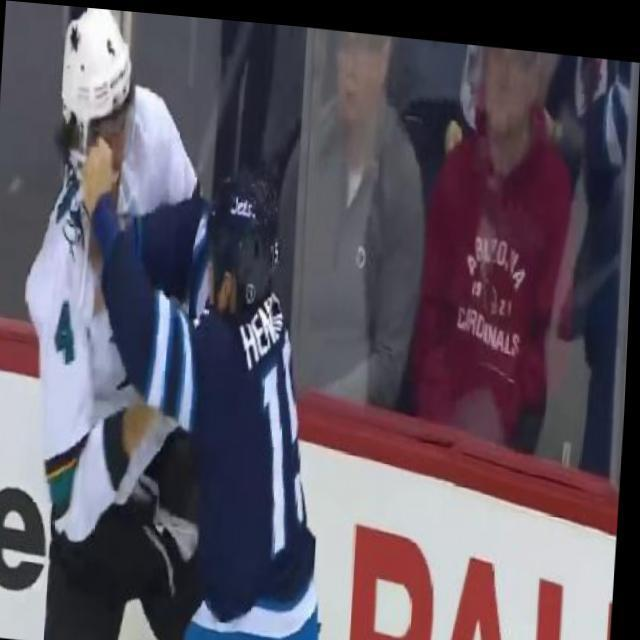fight: (9, 2, 356, 640)
